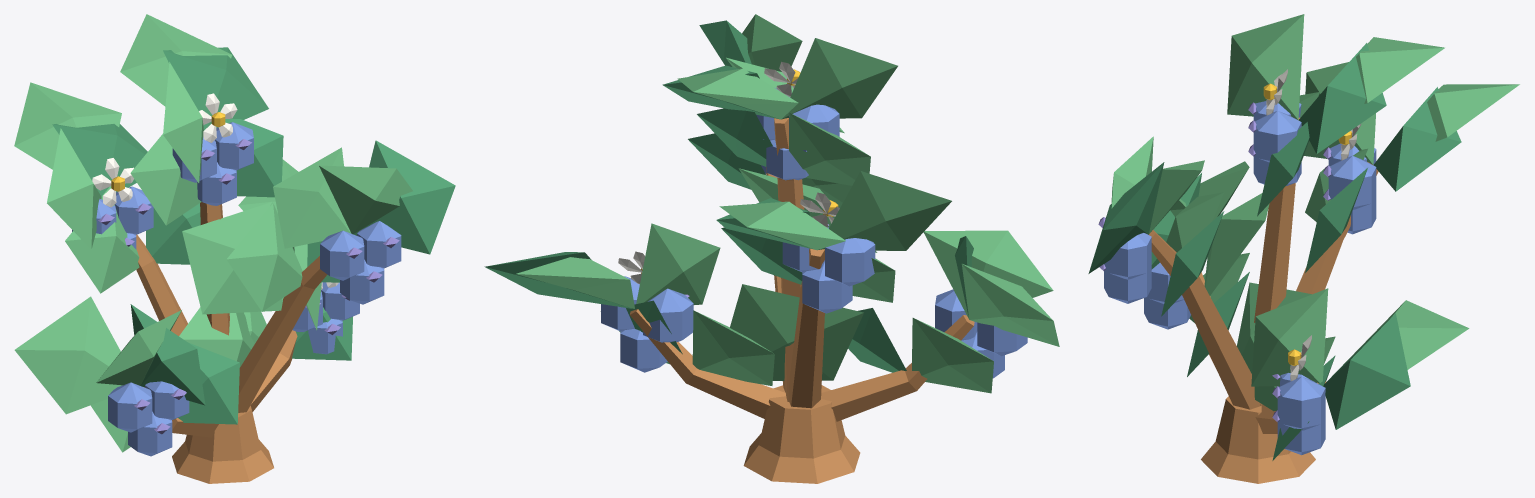
File: 07-blueberry.glb
3 views of the same model, side by side, from view 1: azimuth 30°, elevation 25°; view 2: azimuth 150°, elevation 25°; view 3: azimuth 270°, elevation 25° (orthographic). The views are drawn at different scales.
Parts seen in each view (by area): view 1: 07-blueberry_Body; view 2: 07-blueberry_Body; view 3: 07-blueberry_Body.
Part boxes in pixels (bbox=[...]): 07-blueberry_Body: bbox=[14, 14, 455, 483]; 07-blueberry_Body: bbox=[484, 14, 1059, 483]; 07-blueberry_Body: bbox=[1088, 14, 1519, 483].
Size of the model in its own units: 0.5682 by 0.504 by 0.4608.
Materials: 1 (1 with a texture image).
